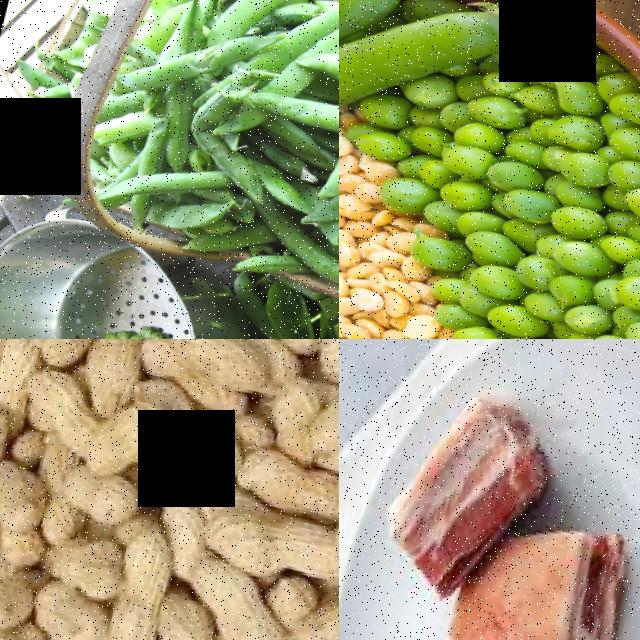peanuts: (198, 494, 339, 587), (80, 383, 179, 481), (100, 525, 184, 640), (179, 561, 299, 640), (233, 437, 339, 518), (55, 462, 148, 528), (41, 528, 129, 596), (170, 339, 277, 387), (302, 355, 339, 464), (0, 397, 17, 515)
peas: (383, 54, 640, 242), (443, 200, 640, 339)
pork belly: (369, 375, 562, 607), (428, 551, 632, 640)
